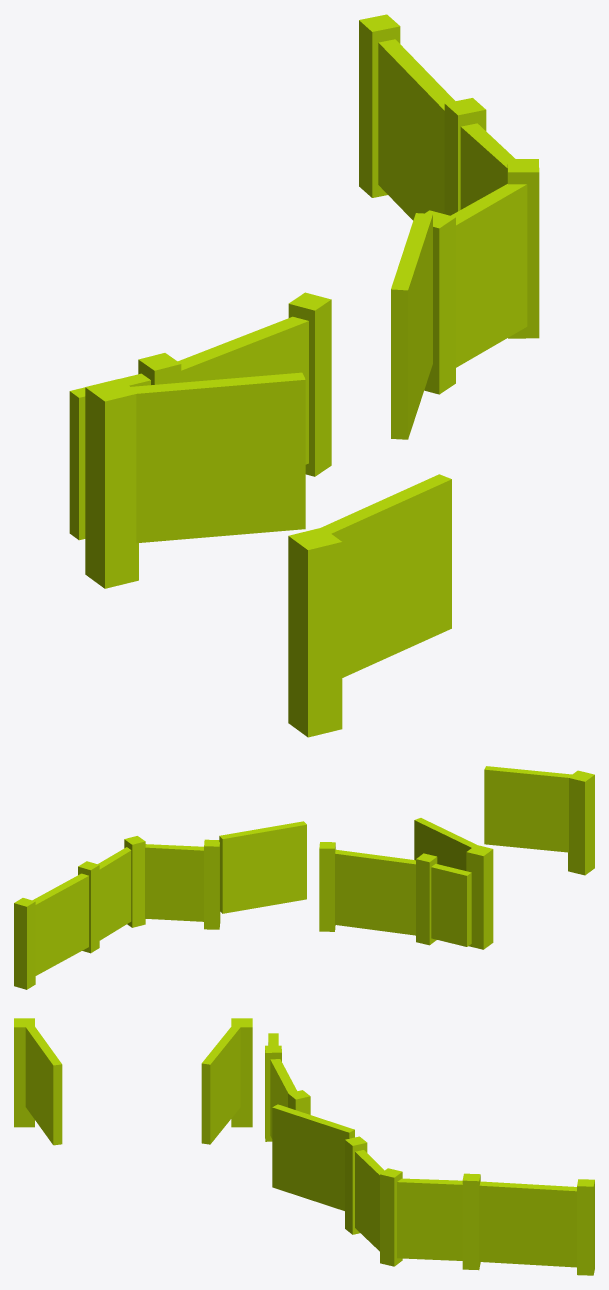
File: storage walls.fbx
The picture shows the model from 3 angles, top to bottom: view 1: azimuth 30°, elevation 25°; view 2: azimuth 150°, elevation 25°; view 3: azimuth 270°, elevation 25°; orthographic projection. The views are drawn at different scales.
Parts seen in each view (by area): view 1: Cube.050; view 2: Cube.050; view 3: Cube.050.
Part boxes in pixels (x1,y1,x2,y2): Cube.050: (69,14,539,737); Cube.050: (14,766,594,989); Cube.050: (14,1018,594,1275).
Size of the model in its own units: 1442 by 416 by 2184.
